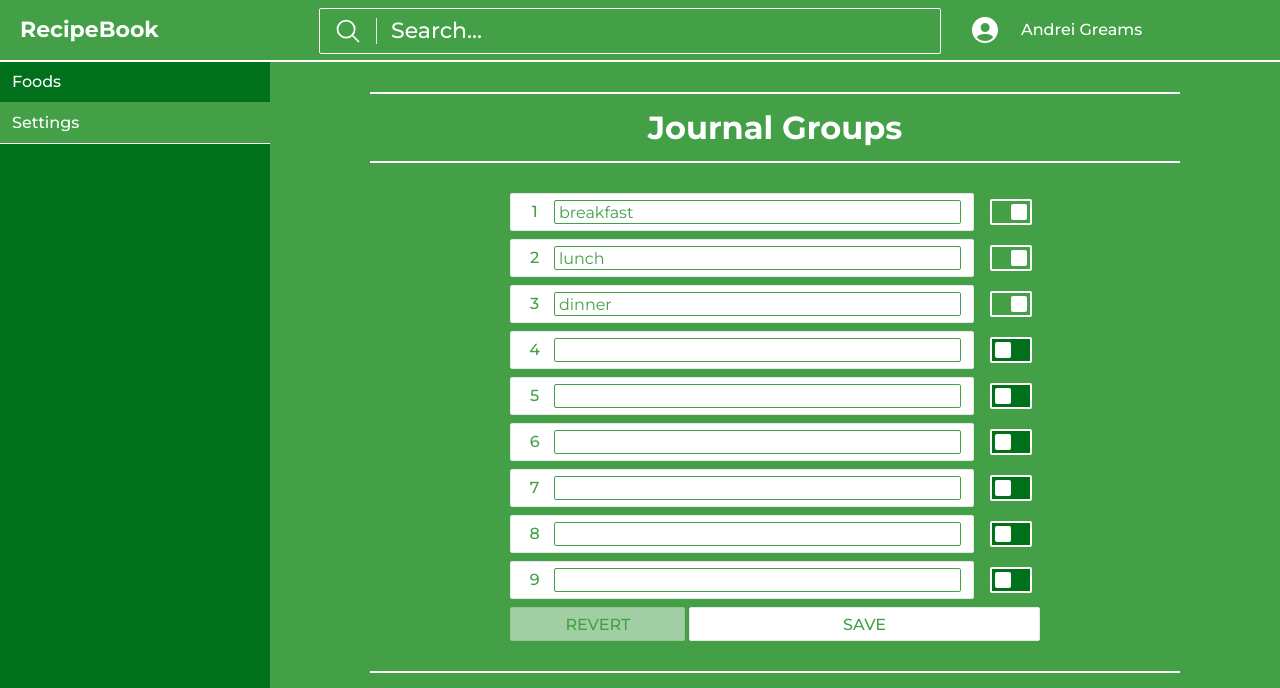
user › journal groups › can delete journal group and revert changes
Check: the text "2" is shown, box [530,246,539,270]
Check: the button "REVERT" is disabled, box [510,607,685,641]
Note: Click toggle to disable the group
Click the 2nd checkbox at [1011, 258], box [990,245,1032,271]
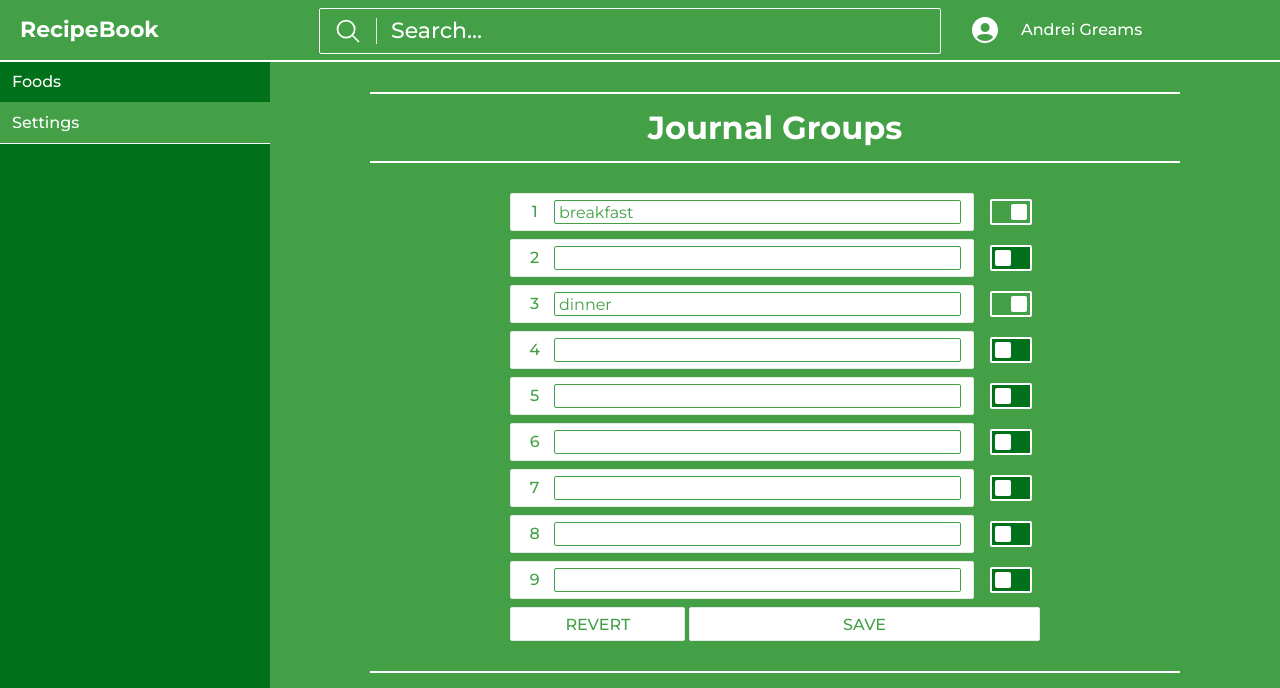
Note: Revert changes
Click the button "REVERT" at [598, 624], box [510,607,685,641]
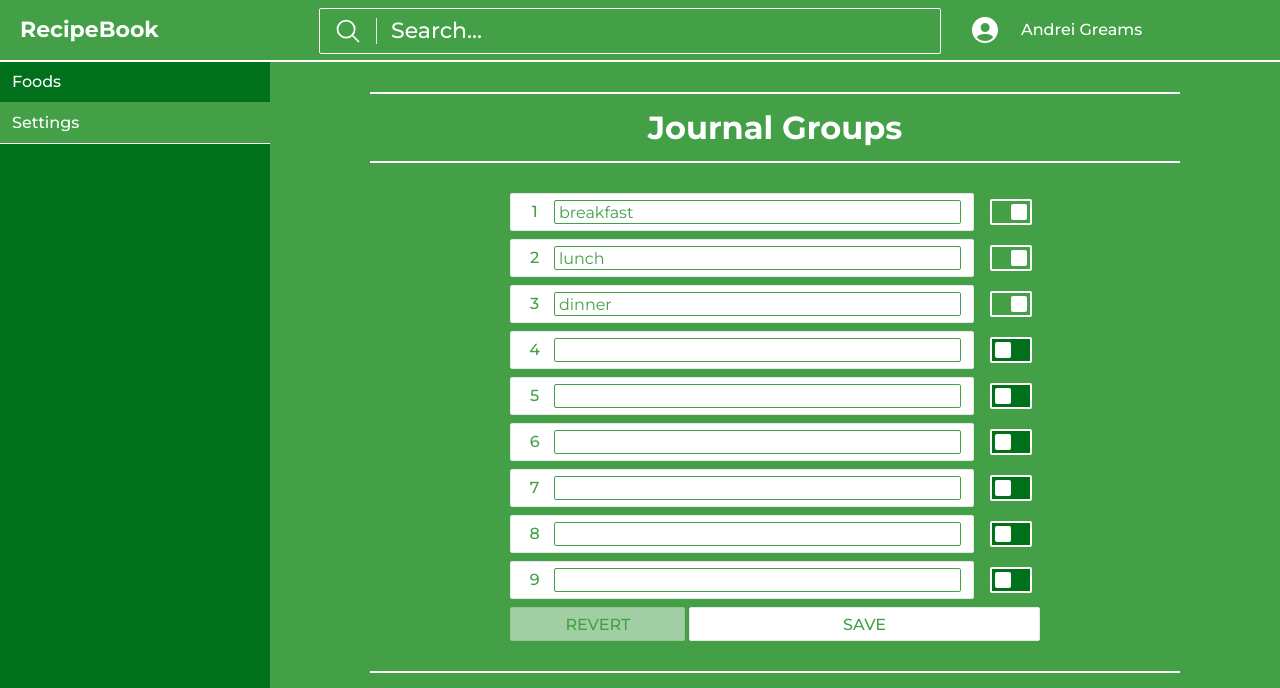
Check: the text "2" is shown, box [530,246,539,270]
Check: the button "REVERT" is disabled, box [510,607,685,641]
